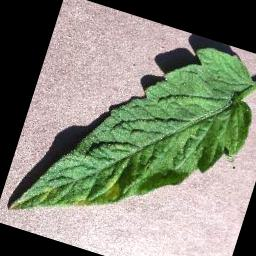Leaf_Mold: (102, 177, 125, 203), (70, 192, 97, 214), (36, 183, 60, 207)
